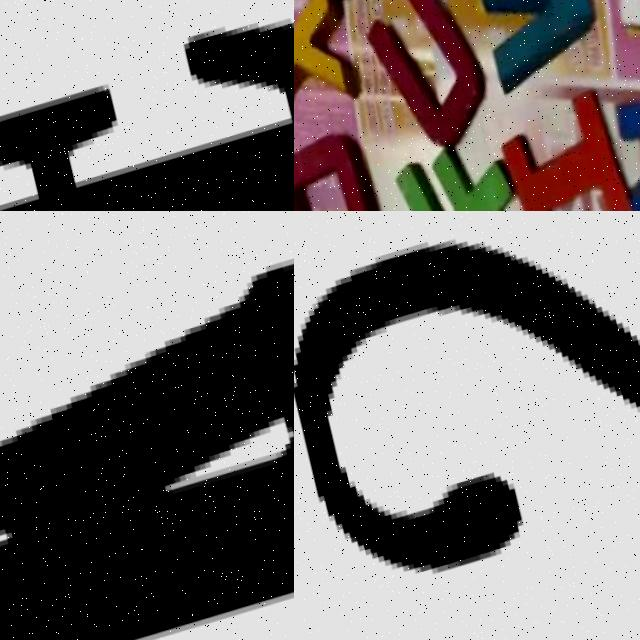2: (294, 211, 640, 627)
E: (0, 24, 294, 211)
F: (387, 117, 533, 211)
I: (493, 84, 640, 211)
K: (0, 256, 294, 640)
O: (294, 124, 394, 211)
U: (360, 0, 493, 156)
V: (465, 0, 608, 97)
X: (294, 0, 365, 127)
